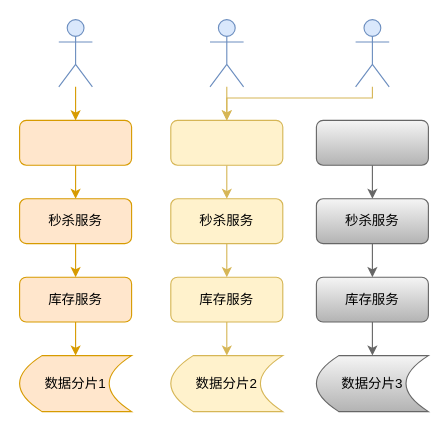
The diagram is 448 pixels wide and 431 high, and some of its shapes have lost their labels. Here are the shapes that lost their labels. From the top down, the centre of each, then its label:
the point at 75,142: 单元1 接入层
the point at 226,142: 单元2 接入层
the point at 371,142: 单元3 接入层
